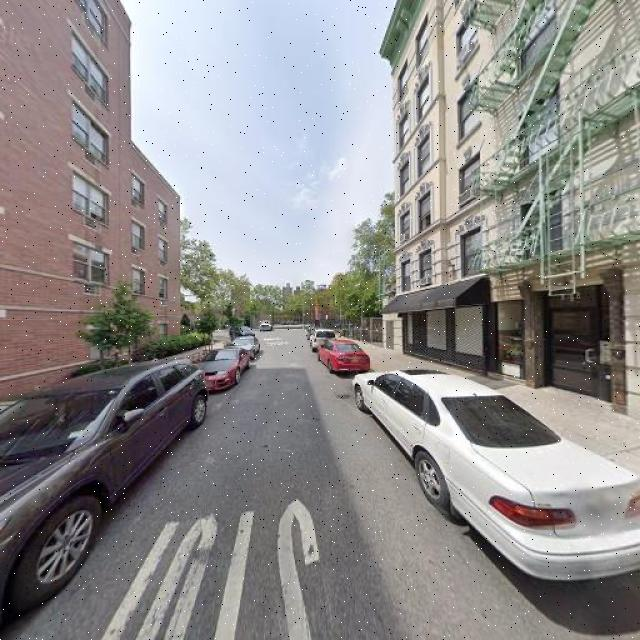Building: (395, 1, 640, 419), (1, 1, 178, 404)
